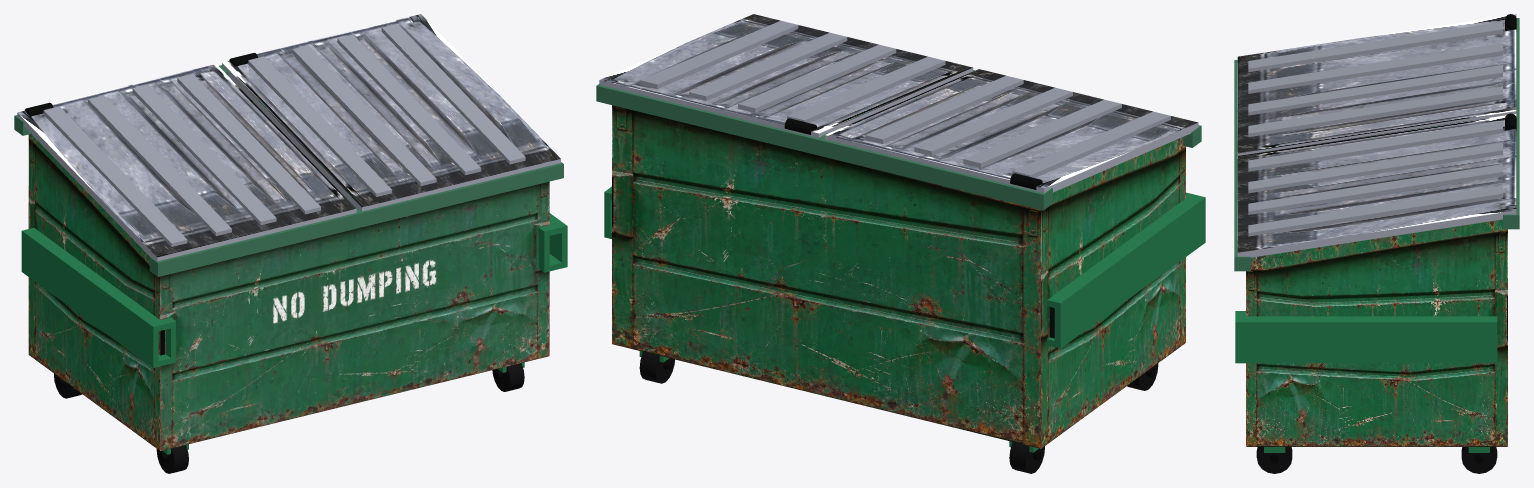
Rendered from dumpster_r3.glb.
3 views of the same model, side by side, from view 1: azimuth 30°, elevation 25°; view 2: azimuth 150°, elevation 25°; view 3: azimuth 270°, elevation 25° (orthographic). The views are drawn at different scales.
Parts seen in each view (by area): view 1: dumpster_r3; view 2: dumpster_r3; view 3: dumpster_r3.
Boxes of the visible parts, x1,y1,x2,y2 form: dumpster_r3: [14, 14, 567, 473]; dumpster_r3: [596, 14, 1205, 473]; dumpster_r3: [1234, 14, 1519, 473].
Size of the model in its own units: 2 by 1.3 by 1.2.
Materials: 4 (3 with a texture image).
